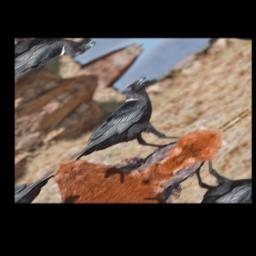Crow: (42, 73, 209, 189)
